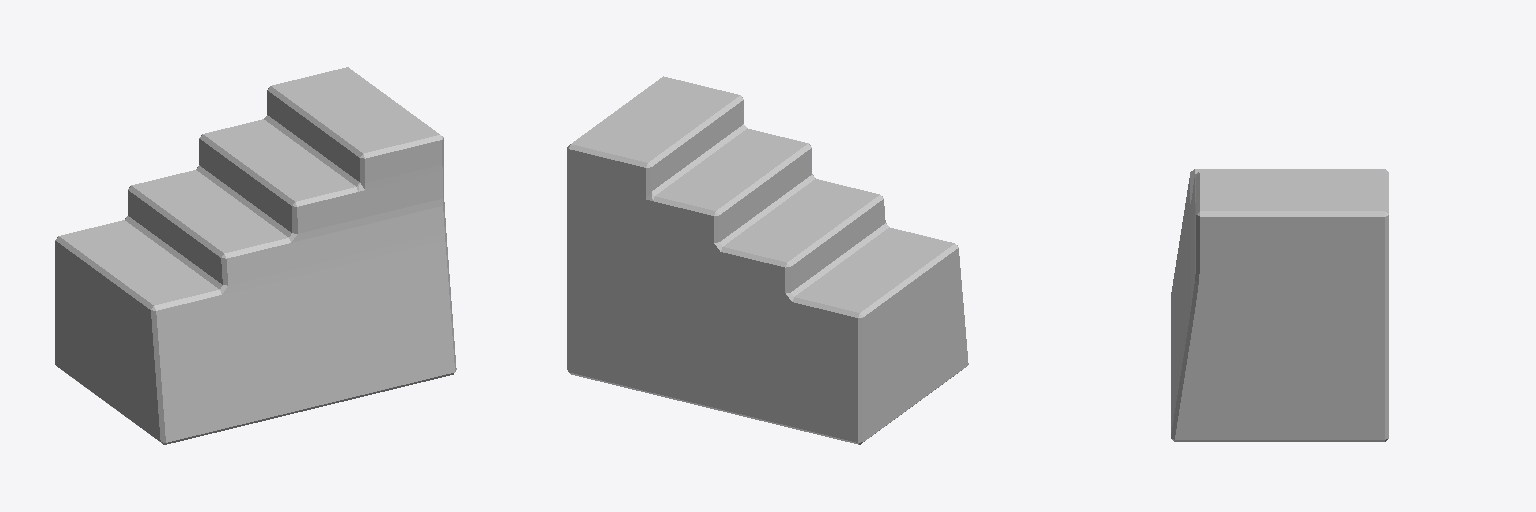
File: stairs.obj
The picture shows the model from 3 angles: view 1: azimuth 30°, elevation 25°; view 2: azimuth 150°, elevation 25°; view 3: azimuth 270°, elevation 25°; orthographic projection.
Visible parts, largest first — view 1: Cube.001; view 2: Cube.001; view 3: Cube.001.
Part boxes in pixels (x1,y1,x2,y2): Cube.001: (55,67,456,444); Cube.001: (567,76,968,444); Cube.001: (1171,169,1388,441).
Size of the model in its own units: 3.54 by 2.63 by 2.26.